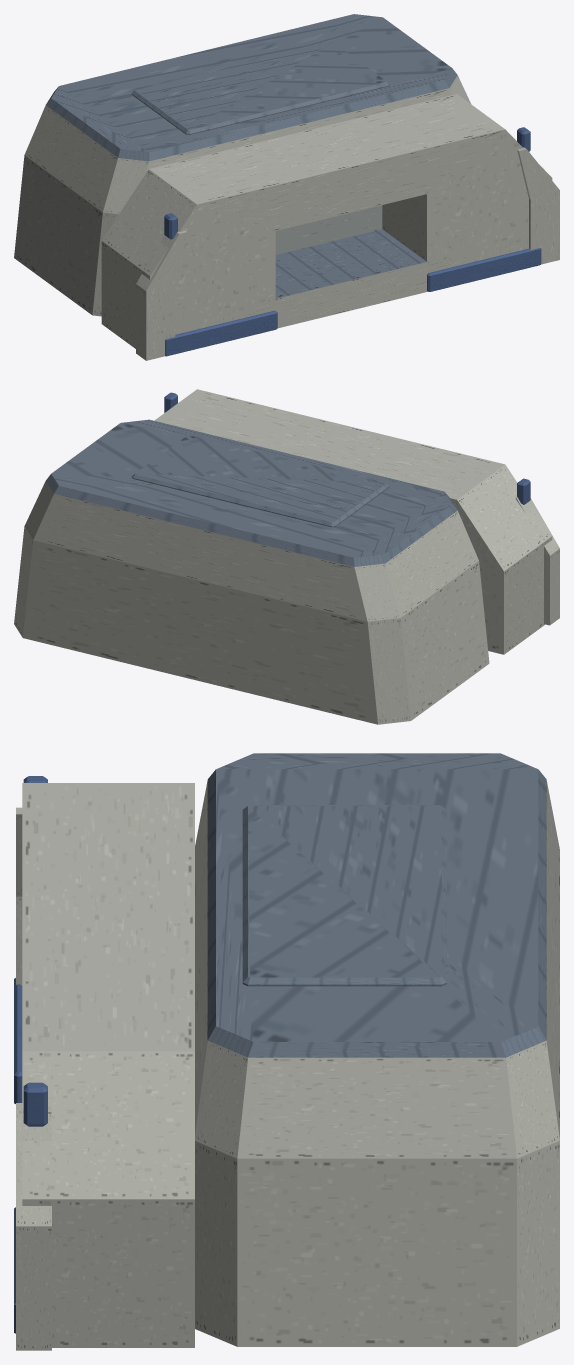
Rendered from ReceptionShell.fbx.
3 views of the same model, one above another, from view 1: azimuth 30°, elevation 25°; view 2: azimuth 150°, elevation 25°; view 3: azimuth 270°, elevation 25° (orthographic). The views are drawn at different scales.
Parts seen in each view (by area): view 1: ReceptionShell; view 2: ReceptionShell; view 3: ReceptionShell.
Boxes of the visible parts, bbox=[...] form: ReceptionShell: bbox=[14, 14, 559, 360]; ReceptionShell: bbox=[14, 389, 559, 724]; ReceptionShell: bbox=[14, 753, 559, 1350].
Bounding box in the file's own units: 1584 × 580 × 1016.
